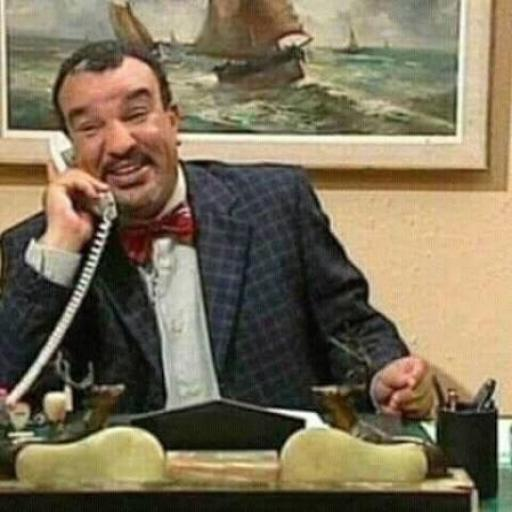slimane: (59, 56, 181, 200)
